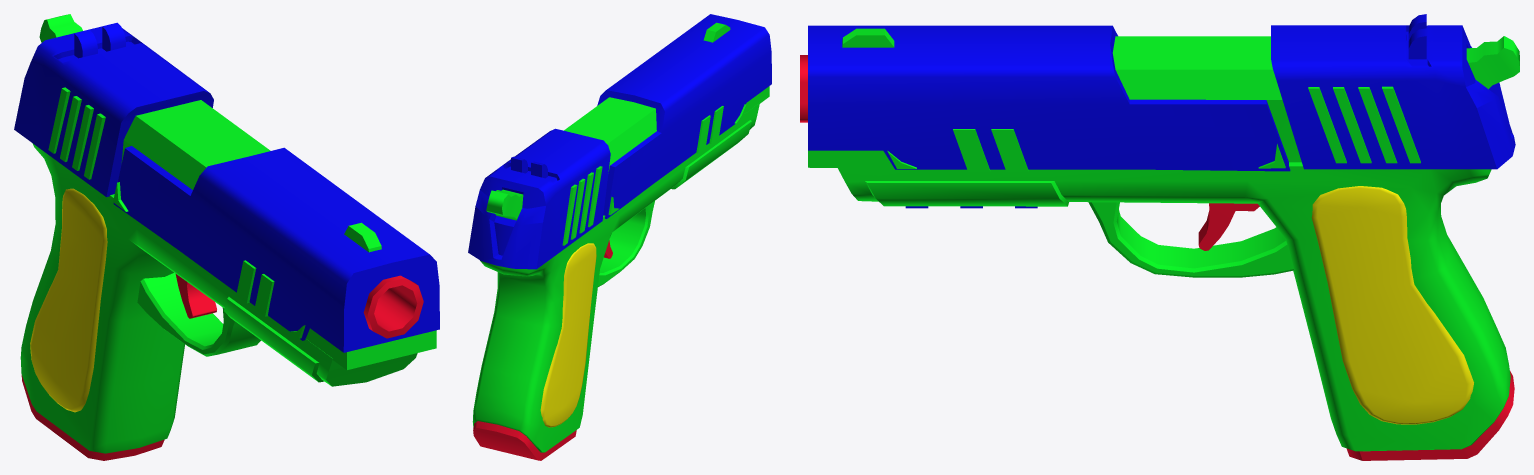
The picture shows the model from 3 angles, left to right: view 1: azimuth 30°, elevation 25°; view 2: azimuth 150°, elevation 25°; view 3: azimuth 270°, elevation 25°; orthographic projection. The views are drawn at different scales.
Parts seen in each view (by area): view 1: Strike; view 2: Strike; view 3: Strike.
Boxes of the visible parts, x1,y1,x2,y2 form: Strike: (14,14,439,460); Strike: (468,14,771,460); Strike: (800,14,1519,460).
Bounding box in the file's own units: 0.0387 × 0.1467 × 0.2294.
